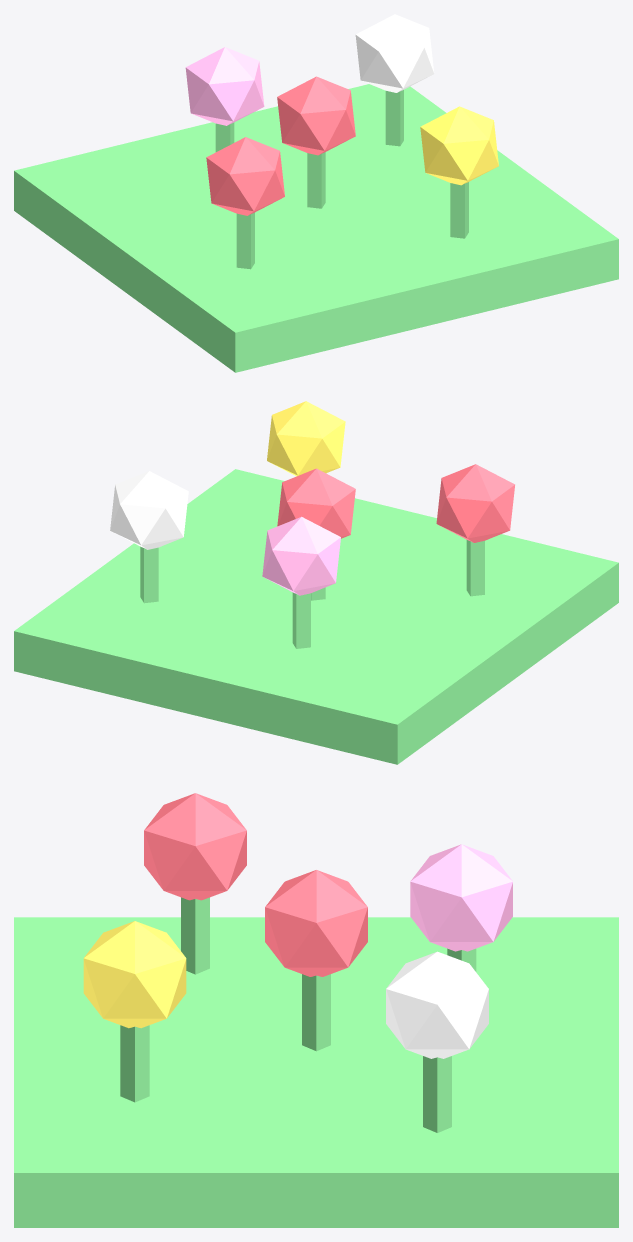
The model's file is flowers.glb.
3 views of the same model, one above another, from view 1: azimuth 30°, elevation 25°; view 2: azimuth 150°, elevation 25°; view 3: azimuth 270°, elevation 25° (orthographic). The views are drawn at different scales.
Visible parts, largest first — view 1: flowers; view 2: flowers; view 3: flowers.
Boxes of the visible parts, box(x1,y1,x2,y2) form: flowers: box(14, 14, 618, 372); flowers: box(14, 401, 618, 764); flowers: box(14, 793, 618, 1227).
Bounding box in the file's own units: 0.5 × 0.21 × 0.5.
